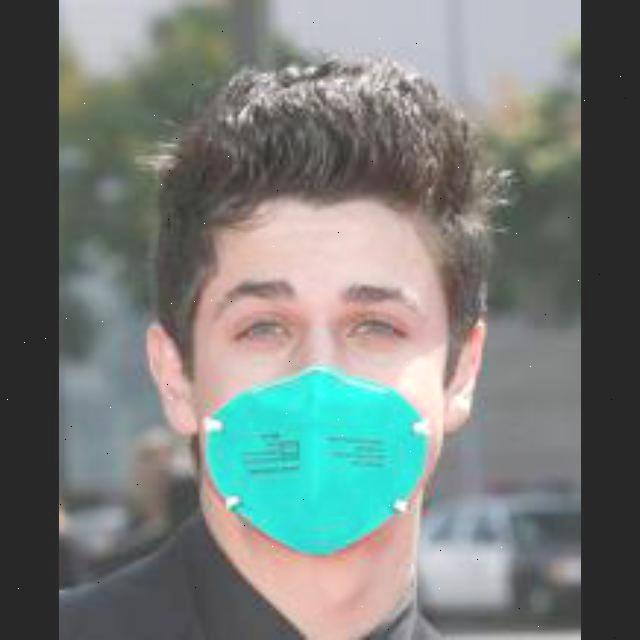suspicion: (113, 80, 529, 554)
